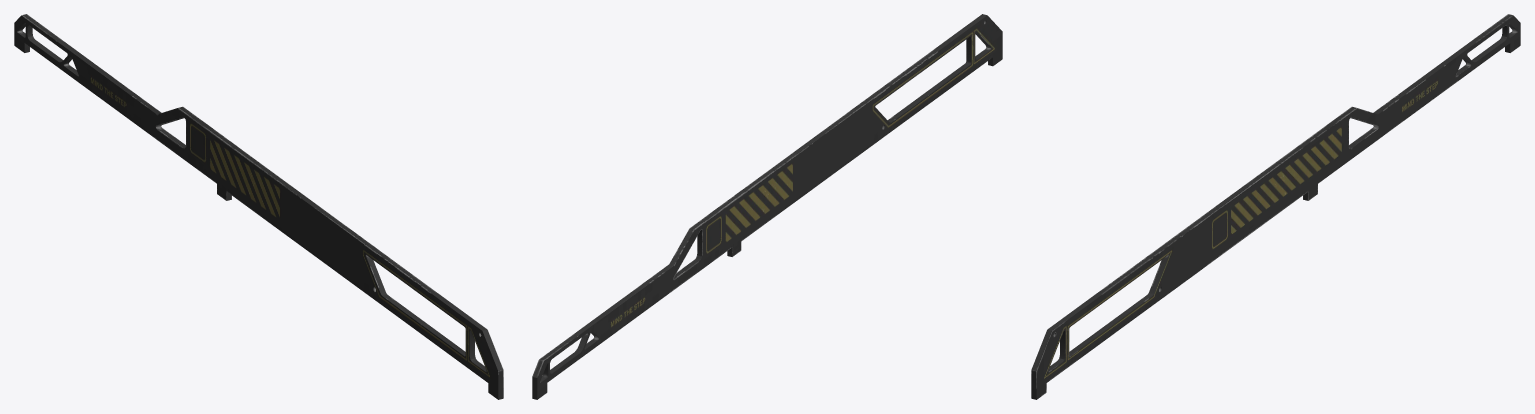
The model's file is c058-opt.glb.
3 renders of one model, left to right at view 1: azimuth 30°, elevation 25°; view 2: azimuth 150°, elevation 25°; view 3: azimuth 330°, elevation 25°, orthographic. The views are drawn at different scales.
Parts seen in each view (by area): view 1: Cube.058; view 2: Cube.058; view 3: Cube.058.
Boxes of the visible parts, box(x1,y1,x2,y2) form: Cube.058: box(14, 14, 503, 399); Cube.058: box(532, 14, 1002, 399); Cube.058: box(1031, 14, 1520, 399).
Bounding box in the file's own units: 0.0288 × 0.2967 × 4.53.
Materials: 1 (1 with a texture image).
